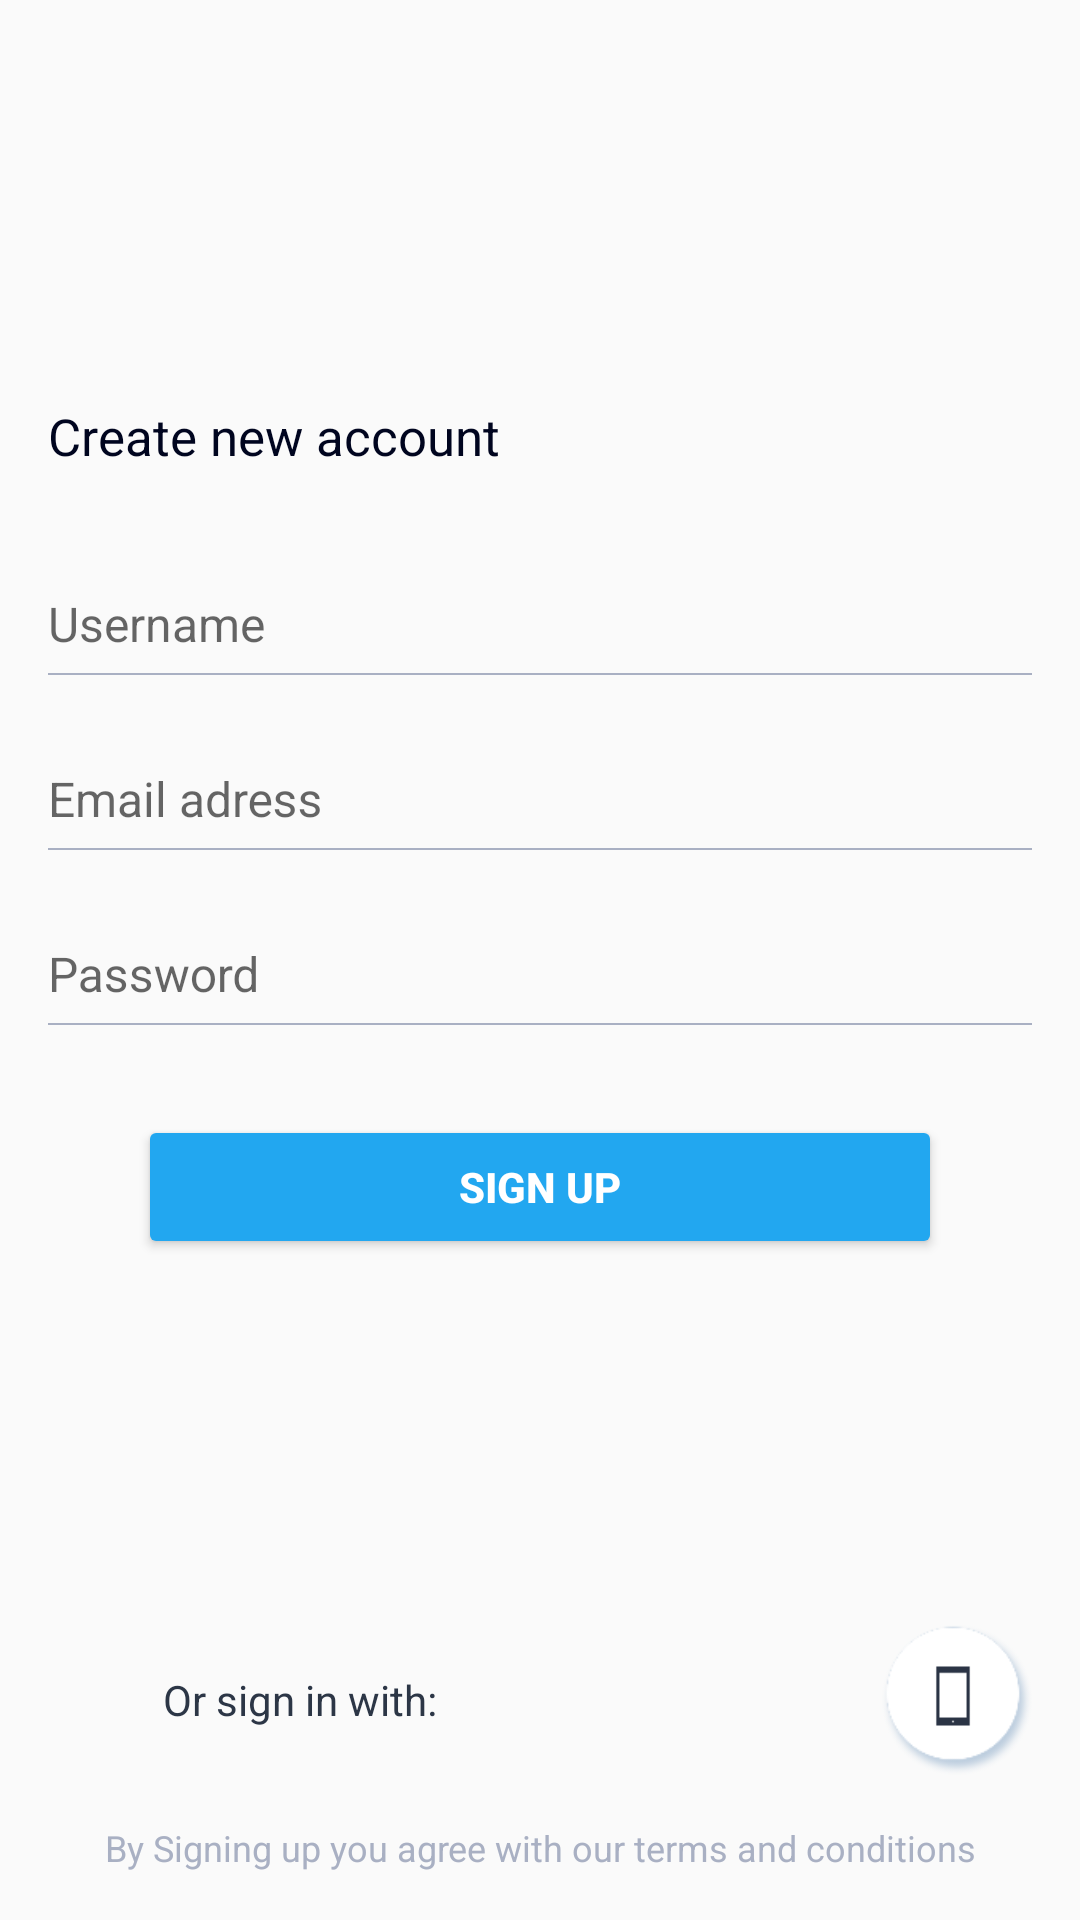

Where to tap for icons on this 1080px×1920px app screen, as (x=x, y=y):
phone: (x=956, y=1697)
